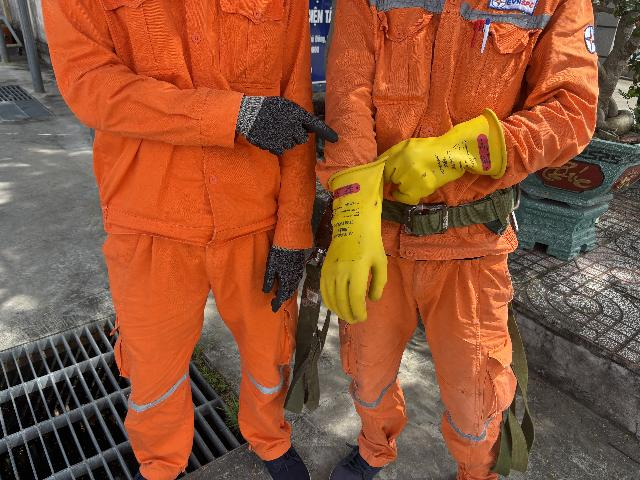gloves: (375, 110, 509, 205), (315, 174, 394, 319), (229, 86, 323, 166), (263, 227, 305, 304)
harness: (349, 187, 523, 241)
shoes: (336, 431, 392, 480), (254, 435, 311, 480)
